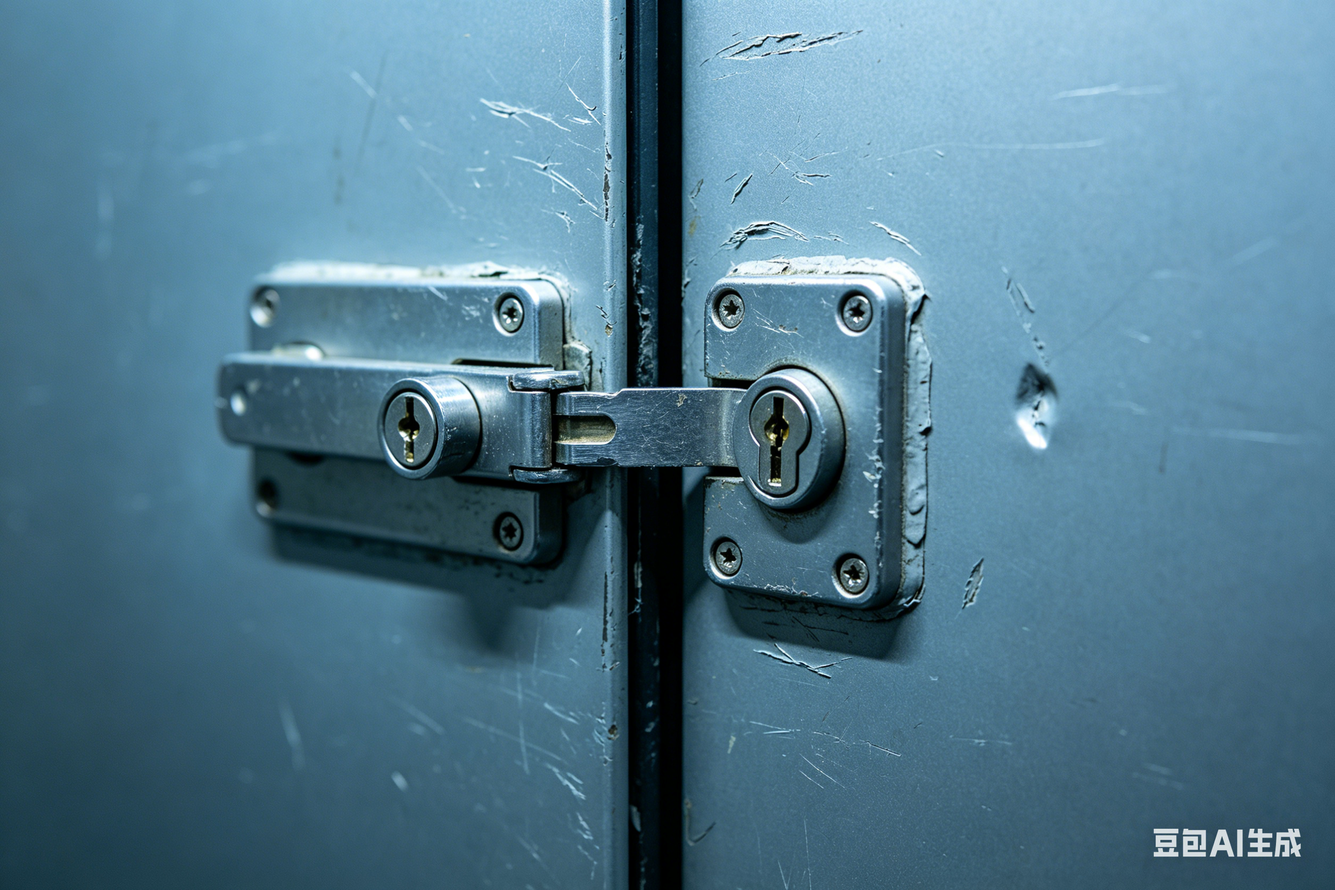BadLock: (535, 368, 774, 480)
